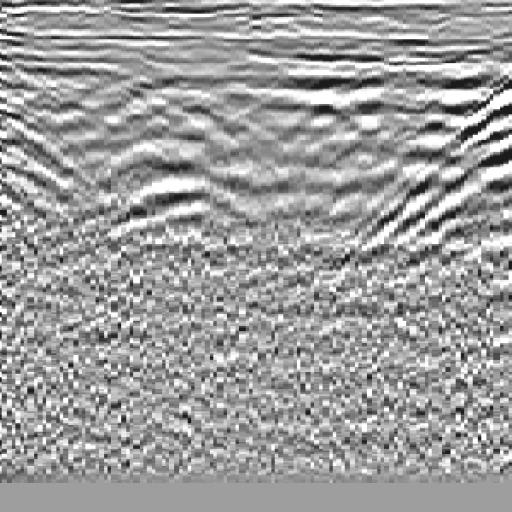metalic: (90, 51, 277, 281)
nonmetalic: (371, 65, 512, 286)
